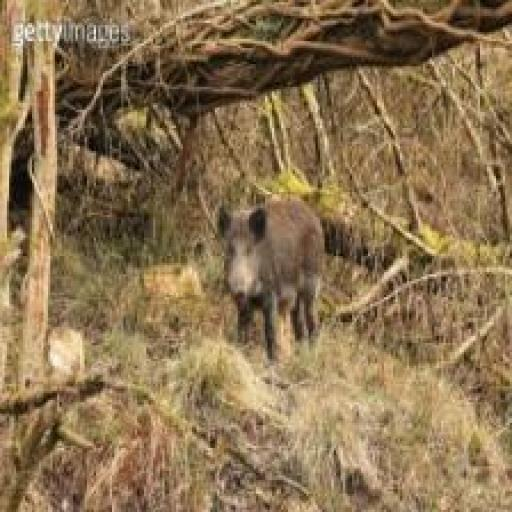Pig: (206, 183, 335, 376)
